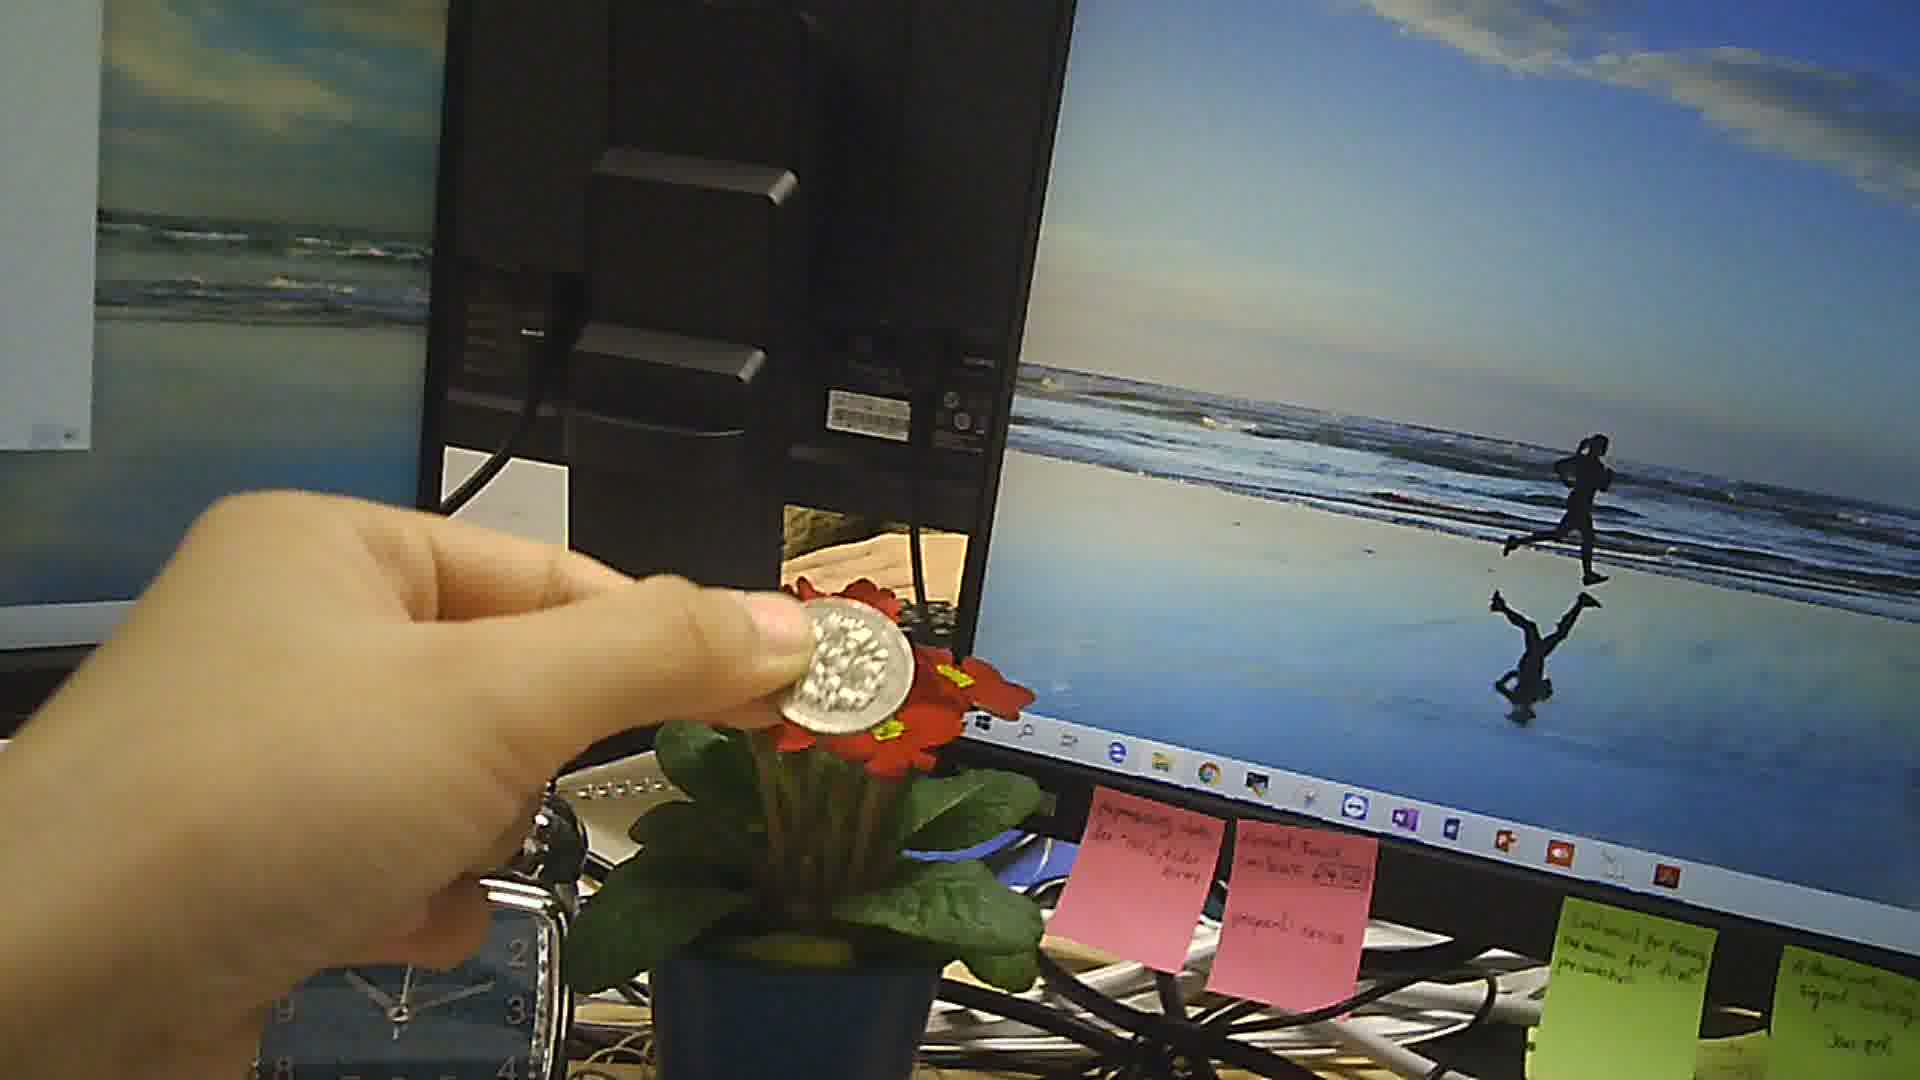100 Yen: (764, 585, 910, 728)
